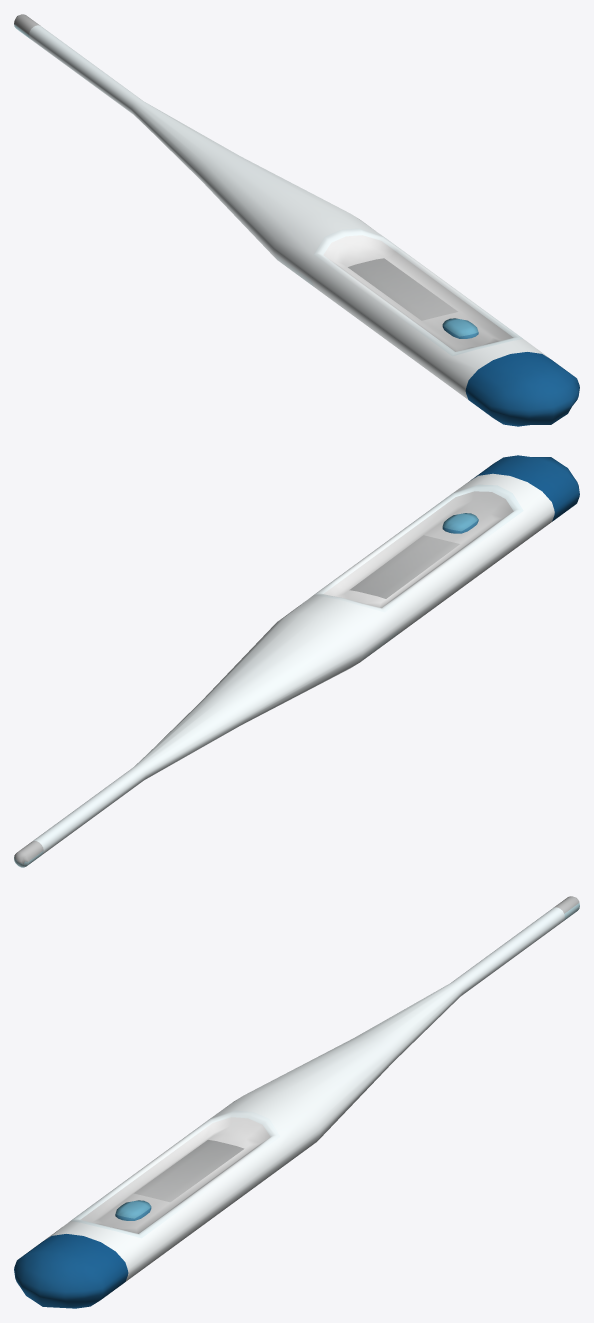
Rendered from Fixed_Item_Thermometer_Ver2.fbx.
3 views of the same model, one above another, from view 1: azimuth 30°, elevation 25°; view 2: azimuth 150°, elevation 25°; view 3: azimuth 330°, elevation 25° (orthographic).
Visible parts, largest first — view 1: Thermometer; view 2: Thermometer; view 3: Thermometer.
Boxes of the visible parts, x1=… form: Thermometer: x1=14, y1=14, x2=579, y2=426; Thermometer: x1=14, y1=455, x2=579, y2=867; Thermometer: x1=14, y1=896, x2=579, y2=1308.
Bounding box in the file's own units: 105 × 58.72 × 1098.
2 materials, 2 textured.
